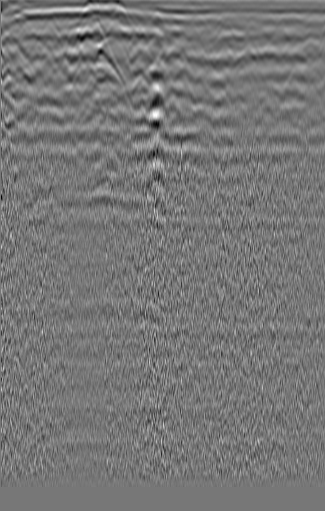가스: (89, 171, 117, 196)
상수: (3, 31, 39, 71)
오수: (288, 37, 325, 73)
우수: (128, 44, 154, 66)
